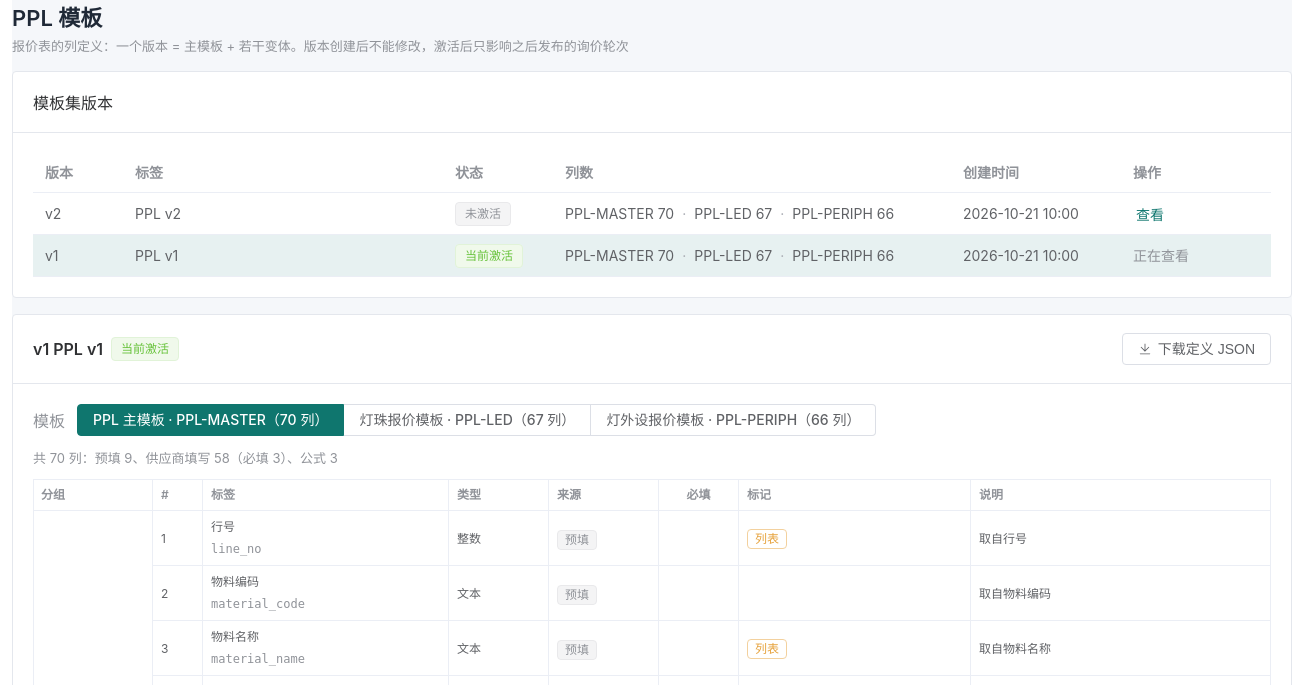
Test case: PPL 模板页 › 正在查看的版本显示"正在查看"而不是按钮；点别的版本的"查看"切换详情
Click the button "查看": (1150, 215) [1133,205,1167,225]
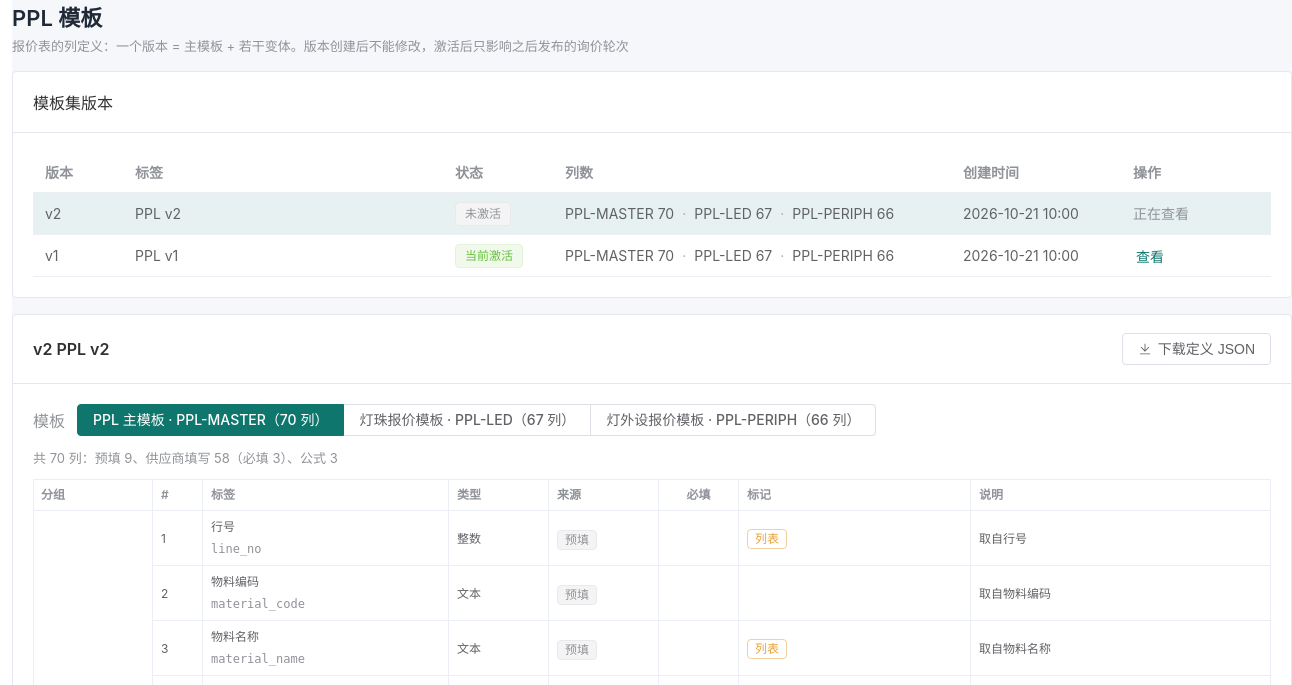
Expected: the row that starts with "PPL v2" is shown, [45,205,61,222]
Expected: the text with class "detail-title" shows "v2", [33,339,110,359]
